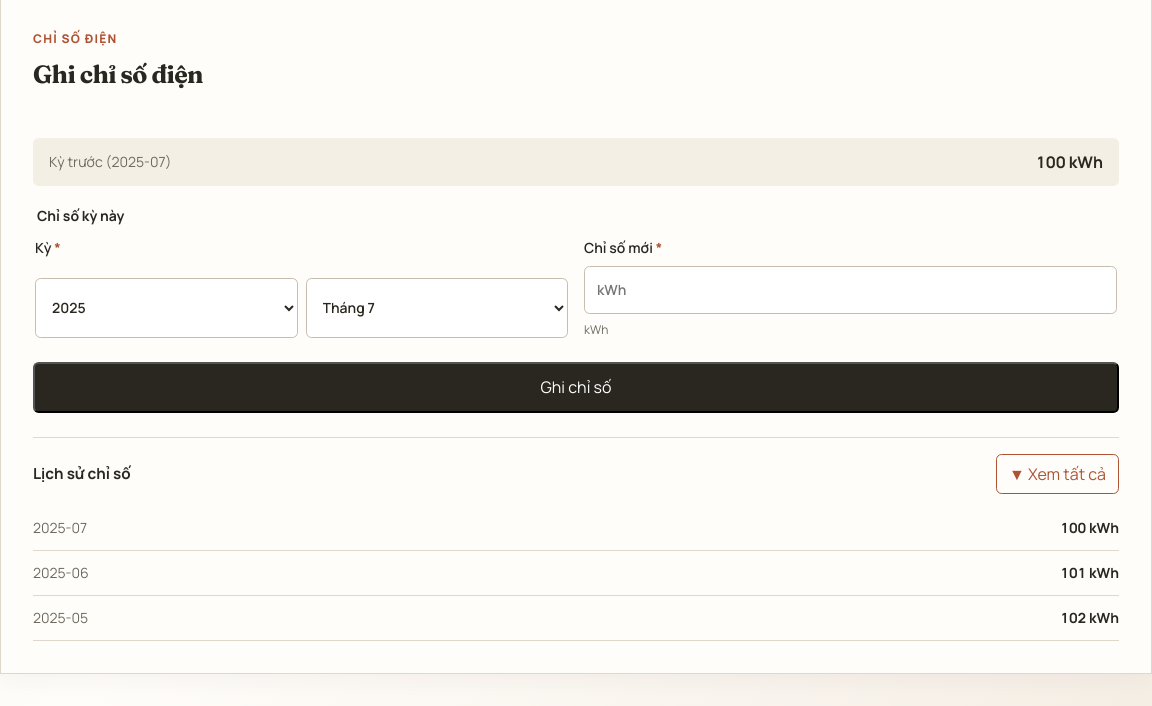
MeterReadingForm history › shows six readings per page after expanding history
The image size is (1152, 706).
Click the button "▼ Xem tất cả": (1058, 474) [996, 454, 1119, 494]
(page scrolled)
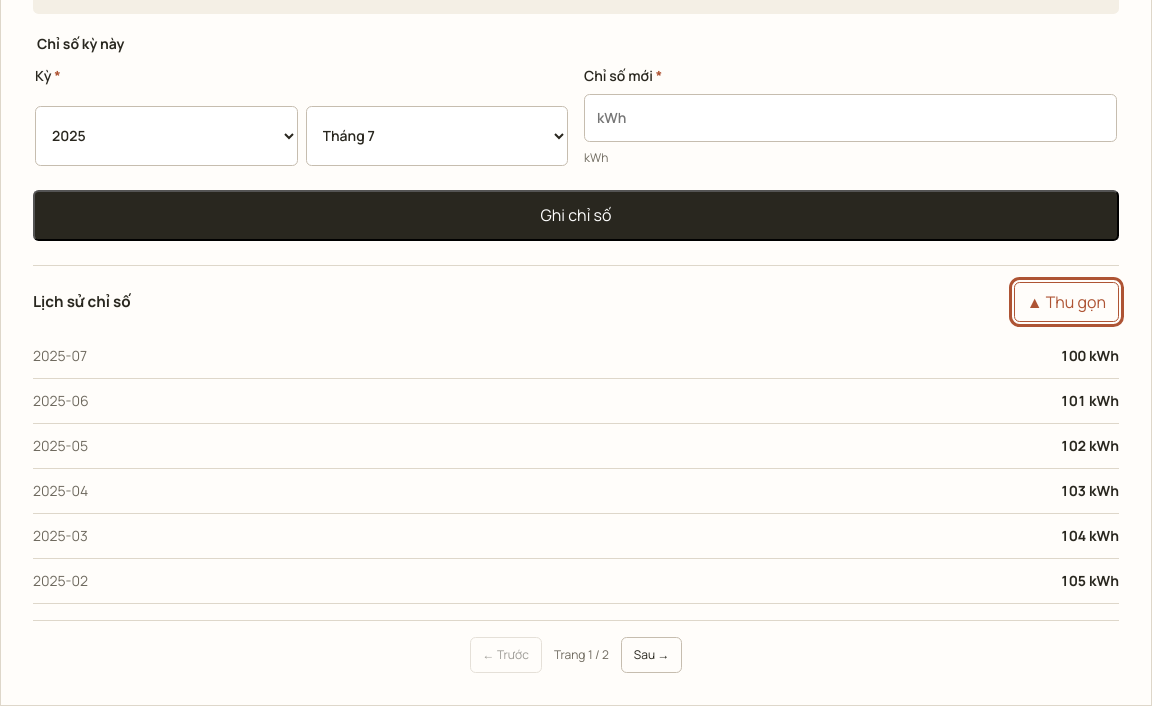
Result: the number of list items is 6 at [33, 334, 1119, 379]; [33, 379, 1119, 424]; [33, 424, 1119, 469]; [33, 469, 1119, 514]; [33, 514, 1119, 559]; [33, 559, 1119, 604]
Result: the navigation bar named "Phân trang" is shown at [33, 620, 1119, 673]
Click the button "Sau →": (652, 655) [621, 637, 682, 673]
(page scrolled)
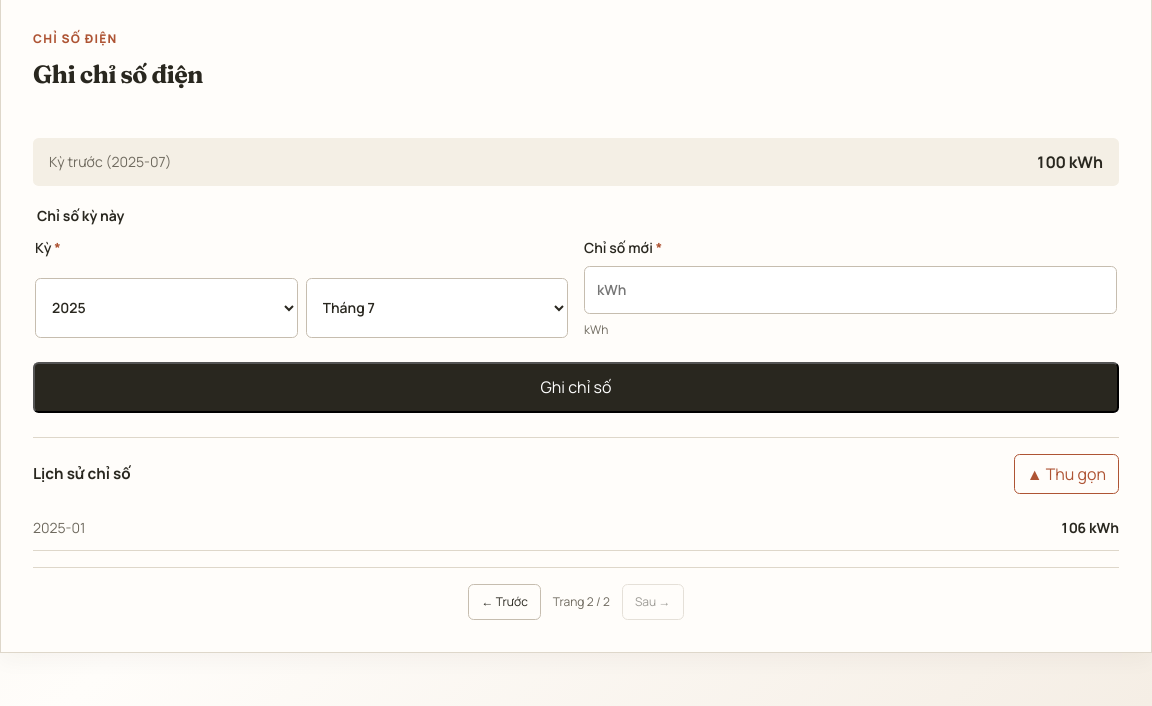
Result: the number of list items is 1 at [33, 506, 1119, 551]
Result: the text "2025-01" is shown at [33, 518, 86, 538]
